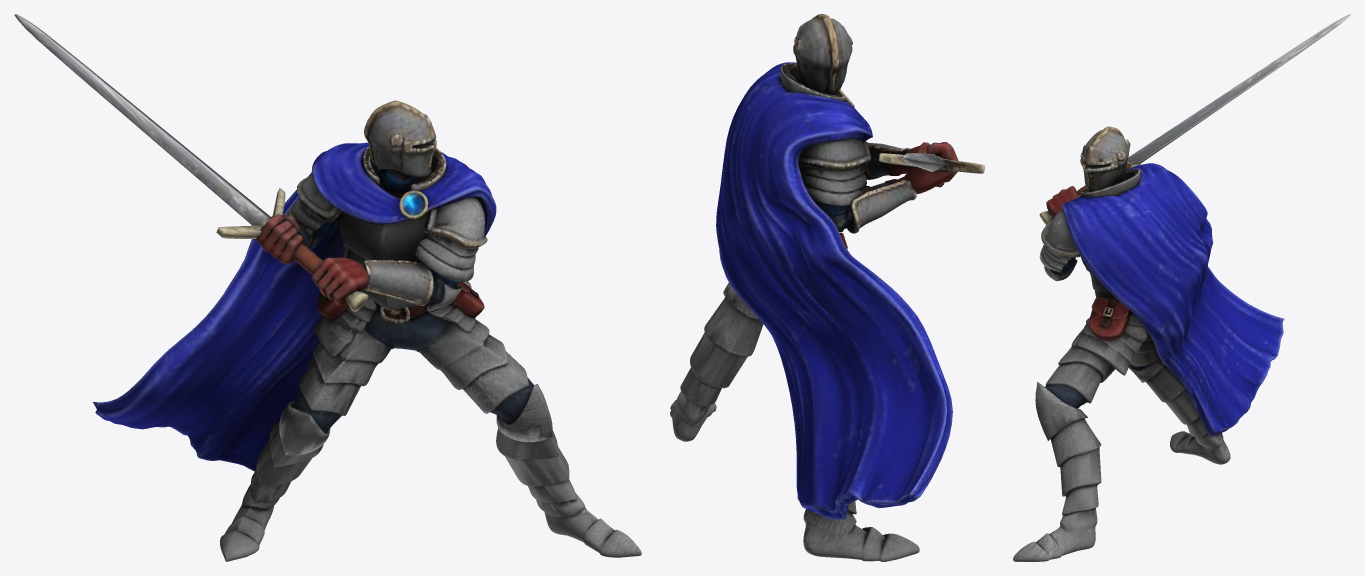
The model's file is MZ4250 - Knight Male_light.glb.
The picture shows the model from 3 angles, left to right: view 1: azimuth 30°, elevation 25°; view 2: azimuth 150°, elevation 25°; view 3: azimuth 270°, elevation 25°; orthographic projection. The views are drawn at different scales.
Parts seen in each view (by area): view 1: Pouch Generic 2.002; view 2: Pouch Generic 2.002; view 3: Pouch Generic 2.002.
Boxes of the visible parts, left/top/right/bottom form: Pouch Generic 2.002: left=14, top=14, right=641, bottom=561; Pouch Generic 2.002: left=670, top=14, right=984, bottom=561; Pouch Generic 2.002: left=1013, top=14, right=1350, bottom=561.
Bounding box in the file's own units: 0.8359 × 0.9388 × 0.7368.
Materials: 1 (1 with a texture image).
